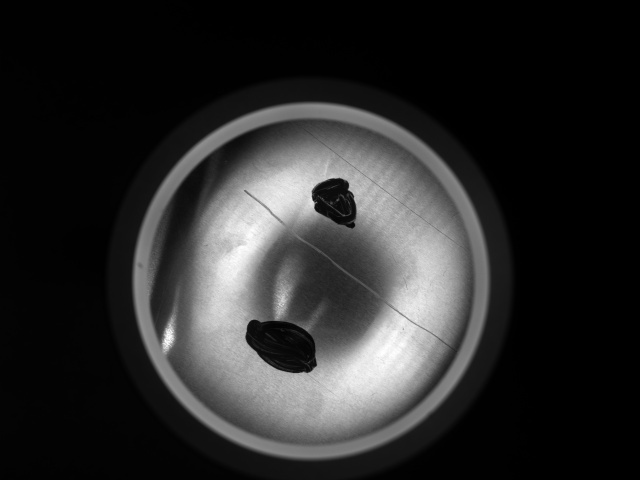ca_shang: (245, 189, 457, 354), (295, 122, 467, 252)
zang_wu: (242, 316, 322, 376), (310, 176, 361, 231)
